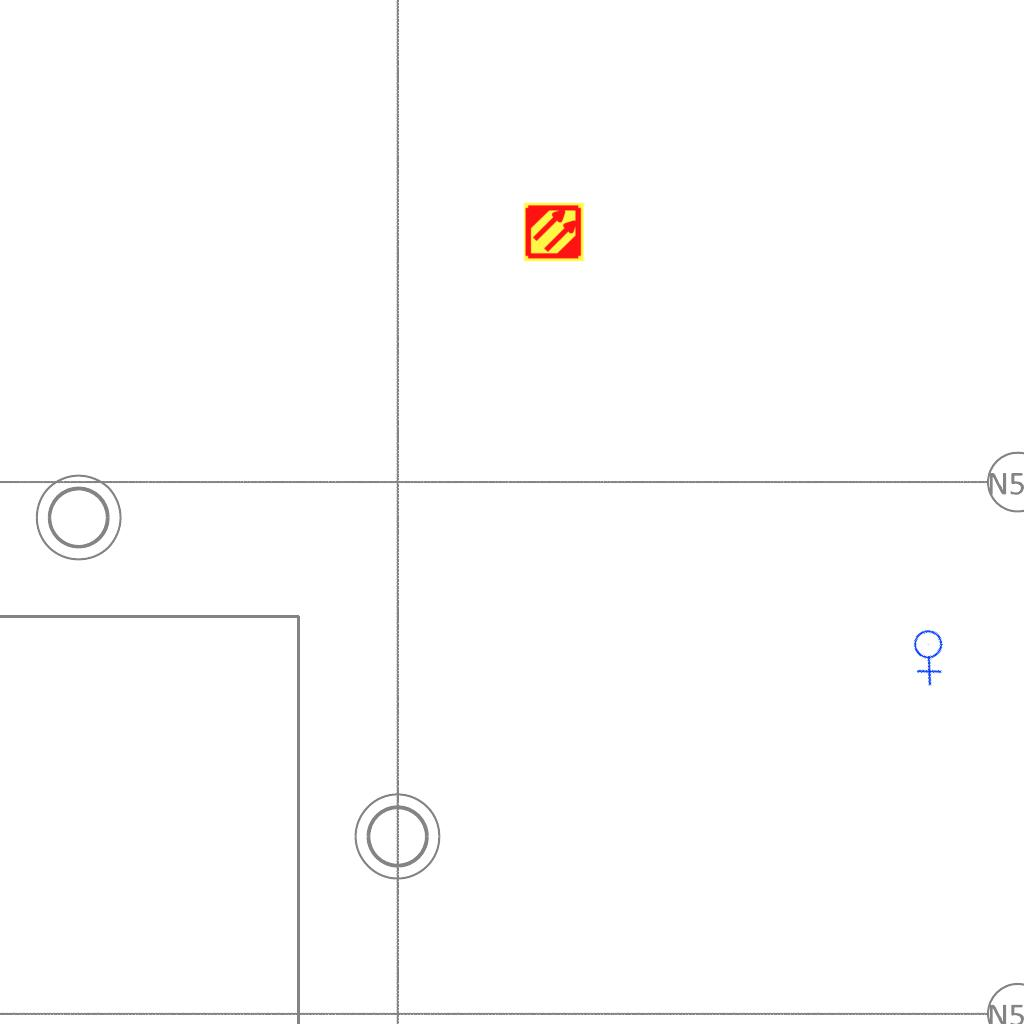ASR_Ansaugrauchmelder: (523, 201, 585, 263)
Elektroanschluss_allgemein_230V_Geraeteanschlussdose_230V: (896, 620, 965, 689)
